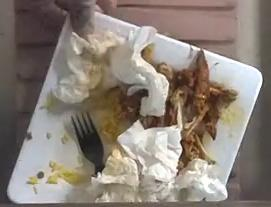rice: (89, 87, 129, 143)
